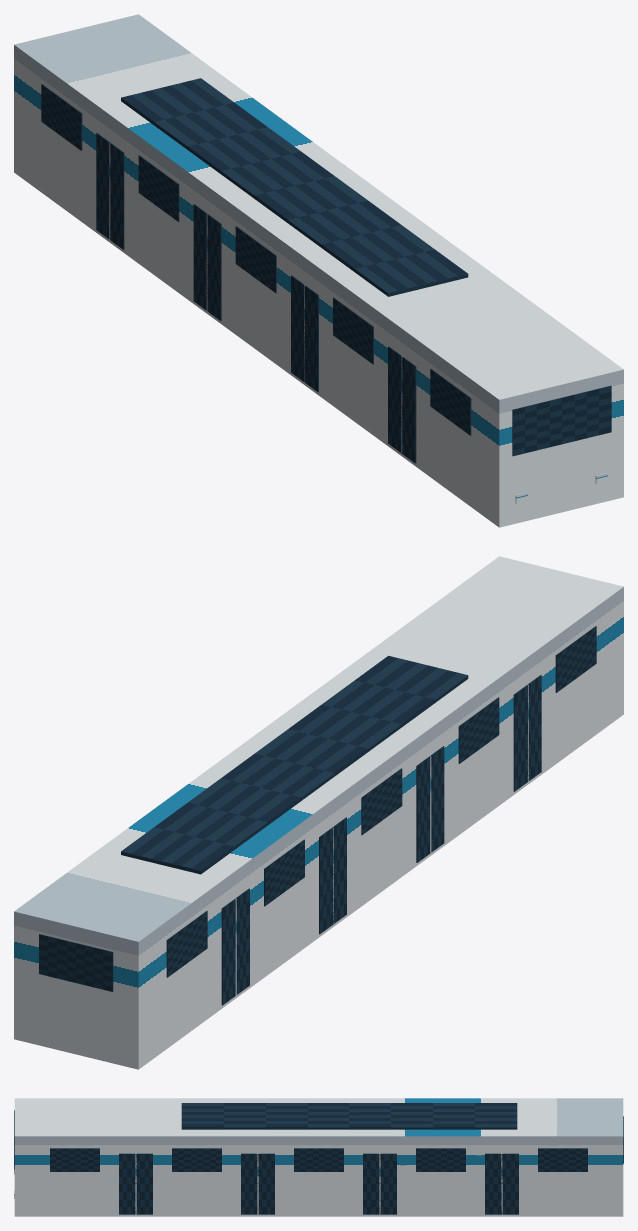
Rendered from body.obj.
3 views of the same model, one above another, from view 1: azimuth 30°, elevation 25°; view 2: azimuth 150°, elevation 25°; view 3: azimuth 270°, elevation 25° (orthographic). The views are drawn at different scales.
Parts seen in each view (by area): view 1: Body_Shell, Roof_Equipment, Front_Windscreen, Door_Right_1, Door_Right_2, Door_Right_4, Door_Right_3, Window_Right_1, Window_Right_2, Window_Right_3, Window_Right_5, Window_Right_4; view 2: Body_Shell, Roof_Equipment, Rear_Windscreen, Door_Right_4, Door_Right_3, Door_Right_1, Door_Right_2, Window_Right_4, Window_Right_5, Window_Right_1, Window_Right_3, Window_Right_2; view 3: Body_Shell, Roof_Equipment, Door_Left_1, Door_Left_2, Door_Left_3, Door_Left_4, Window_Left_1, Window_Left_2, Window_Left_3, Window_Left_4, Window_Left_5.
Part boxes in pixels (x1,y1,x2,y2): Body_Shell: (14, 14, 623, 527); Roof_Equipment: (121, 78, 468, 296); Front_Windscreen: (512, 385, 611, 456); Door_Right_1: (96, 133, 124, 249); Door_Right_2: (193, 204, 221, 320); Door_Right_4: (388, 346, 416, 463); Door_Right_3: (291, 275, 318, 392); Window_Right_1: (41, 84, 82, 150); Window_Right_2: (138, 155, 179, 221); Window_Right_3: (235, 226, 276, 293); Window_Right_5: (430, 369, 471, 435); Window_Right_4: (333, 297, 373, 364); Body_Shell: (14, 556, 623, 1069); Roof_Equipment: (121, 655, 468, 874); Rear_Windscreen: (39, 934, 113, 991); Door_Right_4: (513, 675, 541, 791); Door_Right_3: (416, 746, 444, 862); Door_Right_1: (221, 888, 249, 1005); Door_Right_2: (319, 817, 346, 934); Window_Right_4: (458, 697, 499, 763); Window_Right_5: (555, 626, 596, 692); Window_Right_1: (166, 911, 207, 977); Window_Right_3: (361, 768, 402, 835); Window_Right_2: (264, 839, 304, 906); Body_Shell: (14, 1098, 623, 1216); Roof_Equipment: (181, 1103, 517, 1129); Door_Left_1: (485, 1153, 518, 1214); Door_Left_2: (363, 1153, 396, 1214); Door_Left_3: (241, 1153, 274, 1214); Door_Left_4: (119, 1153, 152, 1214); Window_Left_1: (538, 1148, 587, 1171); Window_Left_2: (416, 1148, 465, 1171); Window_Left_3: (294, 1148, 343, 1171); Window_Left_4: (172, 1148, 221, 1171); Window_Left_5: (50, 1148, 99, 1171).
Bounding box in the file's own units: 3 × 2.98 × 20.
Materials: 2 (2 with a texture image).
